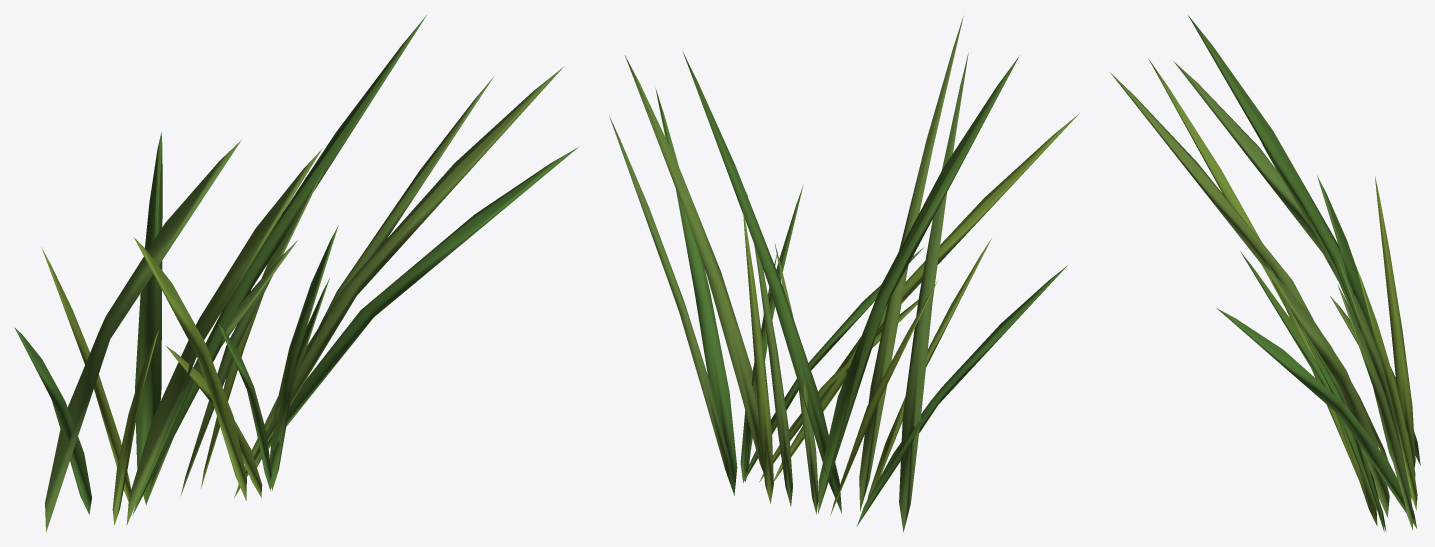
Rendered from walltuft_small.glb.
3 renders of one model, left to right at view 1: azimuth 30°, elevation 25°; view 2: azimuth 150°, elevation 25°; view 3: azimuth 270°, elevation 25°, orthographic. The views are drawn at different scales.
Visible parts, largest first — view 1: Sammel Pflanze; view 2: Sammel Pflanze; view 3: Sammel Pflanze.
Boxes of the visible parts, left/top/right/bottom form: Sammel Pflanze: left=14, top=15, right=579, bottom=532; Sammel Pflanze: left=609, top=16, right=1079, bottom=532; Sammel Pflanze: left=1110, top=15, right=1420, bottom=531.
Size of the model in its own units: 0.2961 by 0.2573 by 0.1709.
